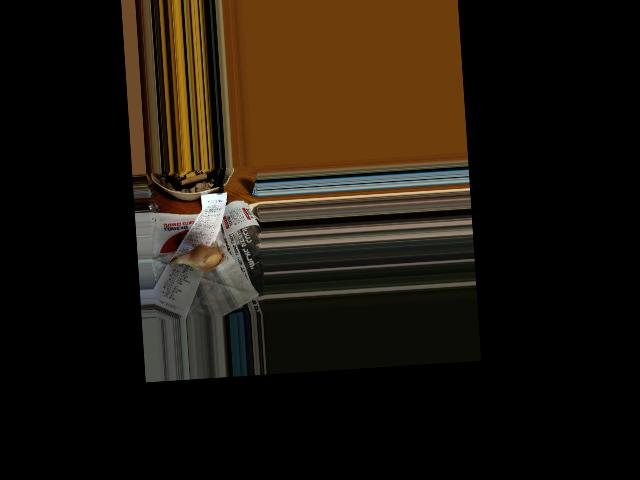onion: (184, 245, 228, 271)
